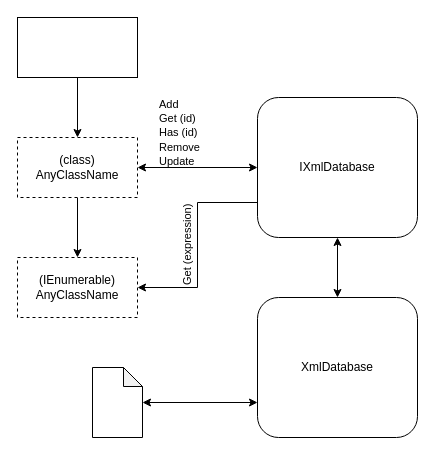
The diagram is 435 pixels wide and 455 high, and some of its shapes have lost their labels. Here are the shapes that lost their labels. From the top down, the centre of each, then its label:
(x=77, y=47): (abstract) DataModel
(x=117, y=402): Xml File
